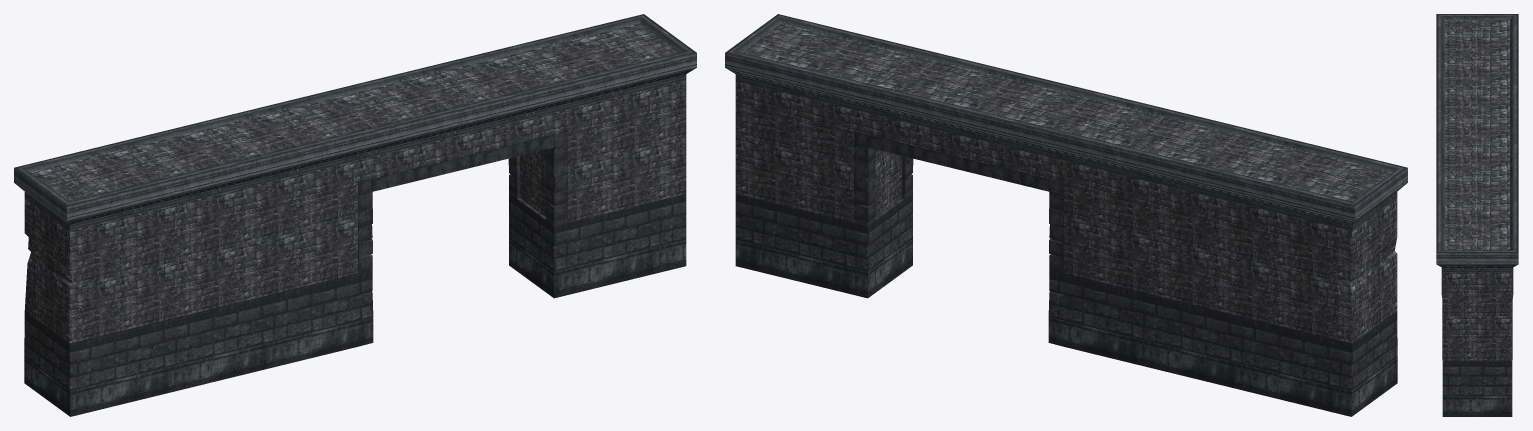
The model's file is Pass.fbx.
The picture shows the model from 3 angles, left to right: view 1: azimuth 30°, elevation 25°; view 2: azimuth 150°, elevation 25°; view 3: azimuth 270°, elevation 25°; orthographic projection. The views are drawn at different scales.
Parts seen in each view (by area): view 1: SMO_BG50_pass_UTZ_0020; view 2: SMO_BG50_pass_UTZ_0020; view 3: SMO_BG50_pass_UTZ_0020.
Part boxes in pixels (box(x1,y1,x2,y2)): SMO_BG50_pass_UTZ_0020: box(14, 14, 696, 416); SMO_BG50_pass_UTZ_0020: box(725, 14, 1407, 416); SMO_BG50_pass_UTZ_0020: box(1436, 14, 1518, 416).
Bounding box in the file's own units: 4480 × 1459 × 652.
